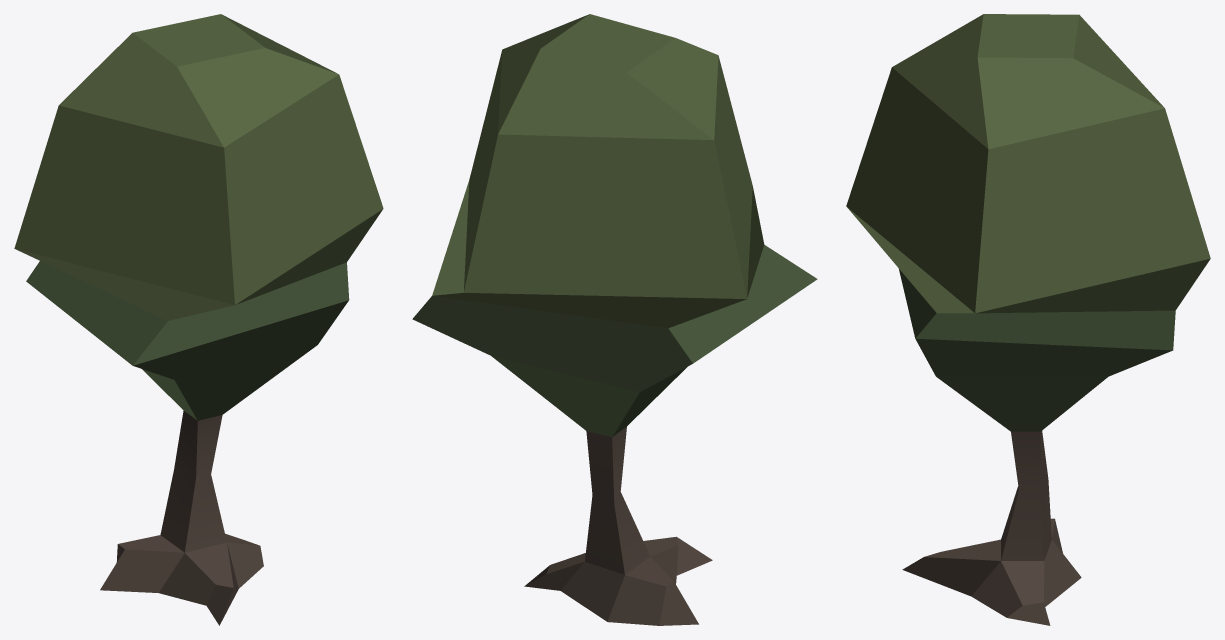
File: tree_small_1.fbx
3 renders of one model, left to right at view 1: azimuth 30°, elevation 25°; view 2: azimuth 150°, elevation 25°; view 3: azimuth 270°, elevation 25°, orthographic. The views are drawn at different scales.
Visible parts, largest first — view 1: pCube5; view 2: pCube5; view 3: pCube5.
Part boxes in pixels (bbox=[...]): pCube5: bbox=[14, 14, 383, 625]; pCube5: bbox=[412, 14, 817, 625]; pCube5: bbox=[846, 14, 1210, 625].
Size of the model in its own units: 4.21 by 6.73 by 4.01.
